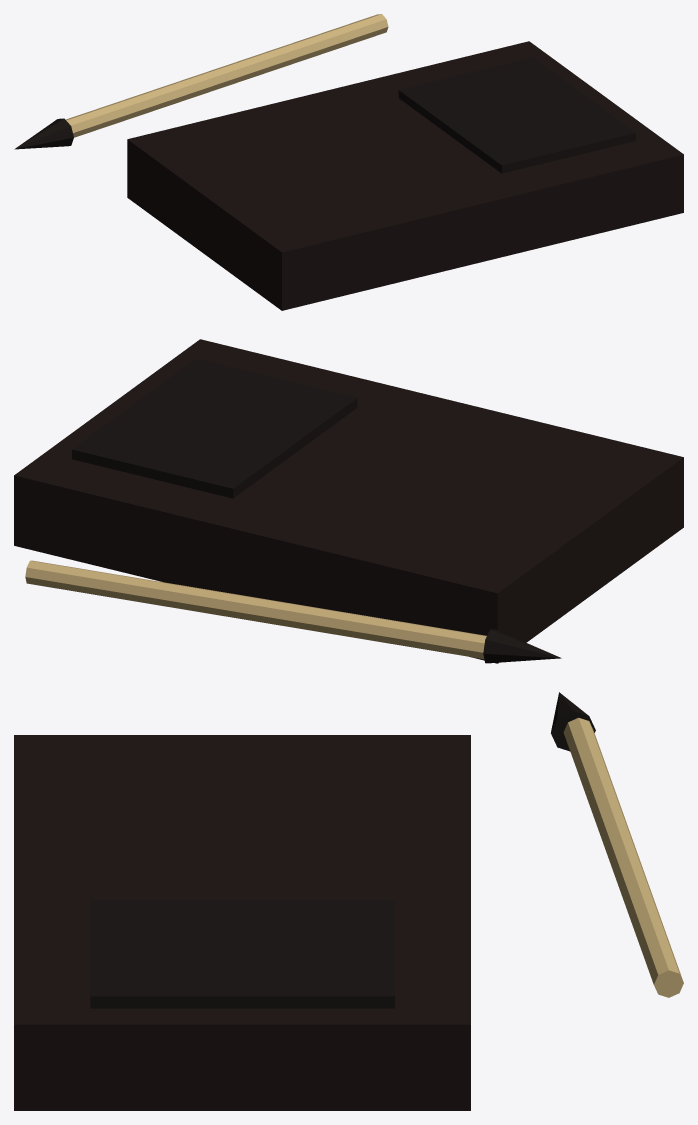
The model's file is poem_inkstone.glb.
The picture shows the model from 3 angles, top to bottom: view 1: azimuth 30°, elevation 25°; view 2: azimuth 150°, elevation 25°; view 3: azimuth 270°, elevation 25°; orthographic projection. The views are drawn at different scales.
Parts seen in each view (by area): view 1: inkstone; view 2: inkstone; view 3: inkstone.
Part boxes in pixels (box(x1,y1,x2,y2)): inkstone: box(14, 14, 683, 310); inkstone: box(14, 339, 683, 663); inkstone: box(14, 692, 683, 1110).
Bounding box in the file's own units: 0.4347 × 0.057 × 0.3518.
